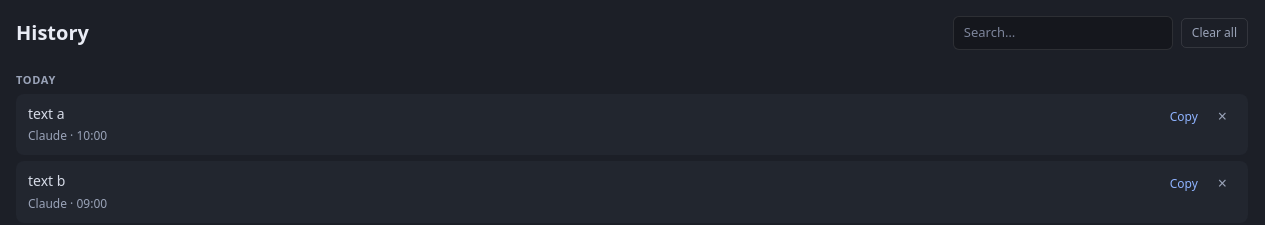
Test: HistoryPage › deletes an entry with the x button
Expected: the text "text a" is shown, top-left (28, 104), bottom-right (65, 123)
Click the button named "Delete" at {"x": 1222, "y": 116}, box top-left (1209, 104), bottom-right (1236, 129)
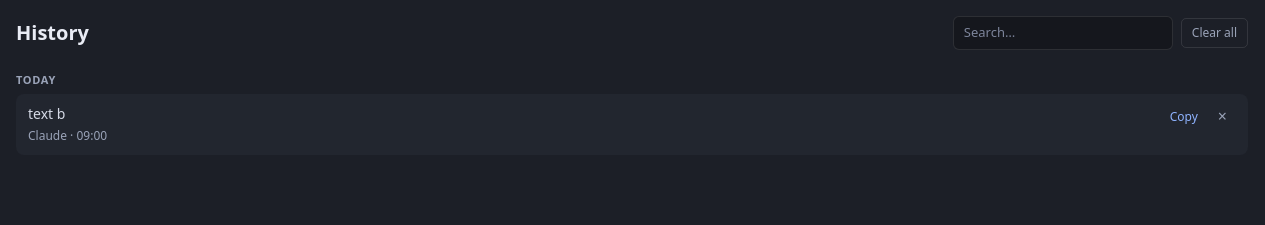
Expected: the text "text b" is shown, top-left (28, 104), bottom-right (65, 123)
Result: the text "text a" is gone
